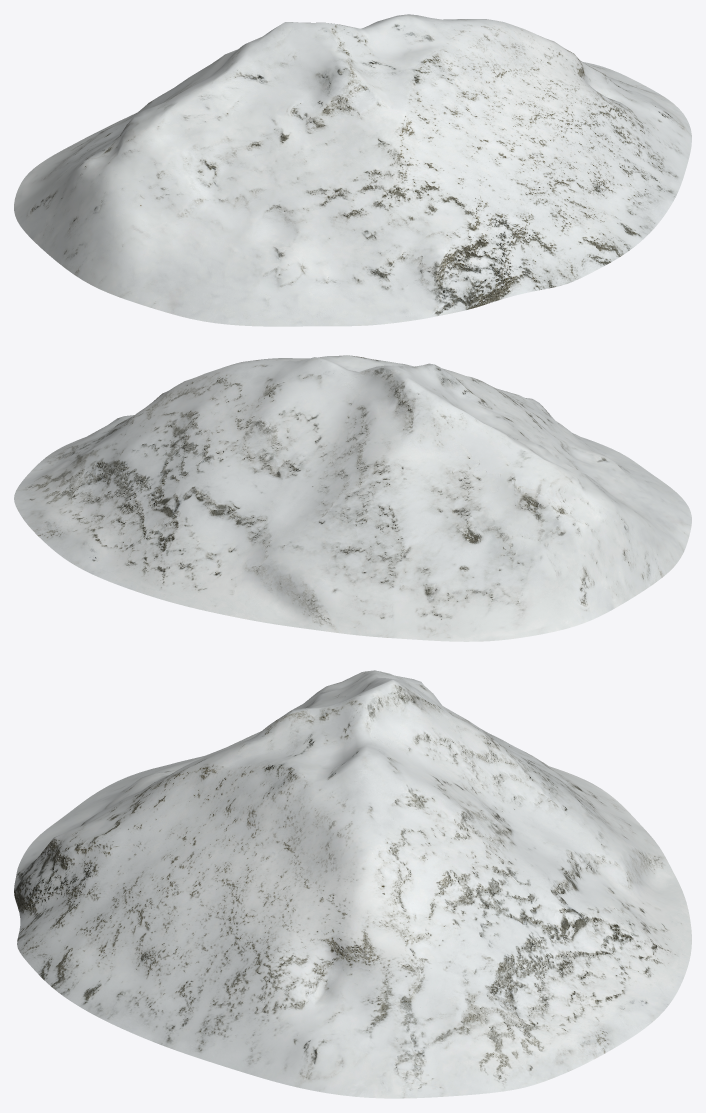
The model's file is Snow4.fbx.
The picture shows the model from 3 angles, top to bottom: view 1: azimuth 30°, elevation 25°; view 2: azimuth 150°, elevation 25°; view 3: azimuth 270°, elevation 25°; orthographic projection. The views are drawn at different scales.
Visible parts, largest first — view 1: Aset_nature_embankment_L_vcyiccyga_LOD0; view 2: Aset_nature_embankment_L_vcyiccyga_LOD0; view 3: Aset_nature_embankment_L_vcyiccyga_LOD0.
Boxes of the visible parts, bbox=[...] form: Aset_nature_embankment_L_vcyiccyga_LOD0: bbox=[14, 14, 691, 326]; Aset_nature_embankment_L_vcyiccyga_LOD0: bbox=[14, 355, 691, 641]; Aset_nature_embankment_L_vcyiccyga_LOD0: bbox=[14, 670, 691, 1098].
Size of the model in its own units: 300 by 79.63 by 243.
Materials: 1 (1 with a texture image).
